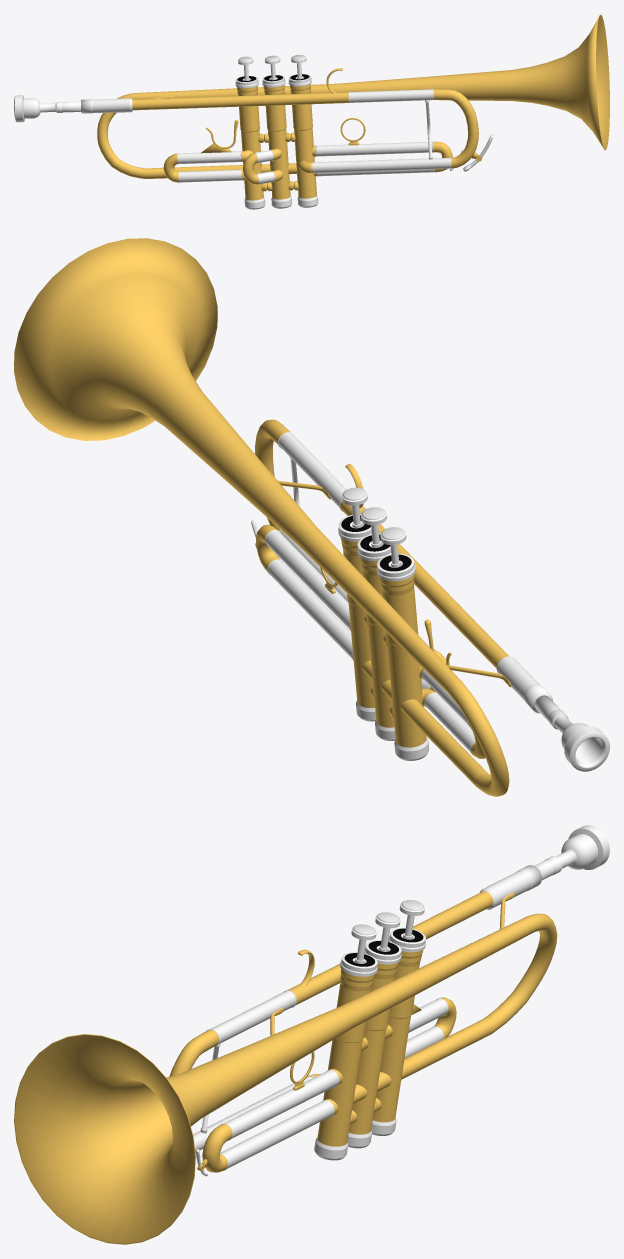
Rendered from trumpet.glb.
The picture shows the model from 3 angles, top to bottom: view 1: azimuth 30°, elevation 25°; view 2: azimuth 150°, elevation 25°; view 3: azimuth 270°, elevation 25°; orthographic projection. The views are drawn at different scales.
Parts seen in each view (by area): view 1: Cylinder, Cylinder.001, Cylinder.006, Cylinder.005, Cylinder.014, Cylinder.003, Cylinder.034, Cylinder.002, Cylinder.013, Torus, Cylinder.007, Cylinder.015; view 2: Cylinder, Cylinder.001, Cylinder.006, Cylinder.005, Cylinder.014, Cylinder.034, Cylinder.037, Cylinder.004, Cylinder.033, Cylinder.002; view 3: Cylinder, Cylinder.001, Cylinder.006, Cylinder.014, Cylinder.005, Cylinder.002, Cylinder.034, Cylinder.004, Cylinder.013, Cylinder.033, Cylinder.015.
Part boxes in pixels (x1=…): Cylinder: x1=97, y1=14, x2=609, y2=178; Cylinder.001: x1=237, y1=87, x2=316, y2=200; Cylinder.006: x1=312, y1=141, x2=452, y2=176; Cylinder.005: x1=163, y1=150, x2=255, y2=182; Cylinder.014: x1=239, y1=104, x2=312, y2=131; Cylinder.003: x1=243, y1=148, x2=283, y2=184; Cylinder.034: x1=81, y1=98, x2=130, y2=113; Cylinder.002: x1=14, y1=95, x2=56, y2=122; Cylinder.013: x1=244, y1=198, x2=318, y2=208; Torus: x1=201, y1=120, x2=238, y2=153; Cylinder.007: x1=258, y1=132, x2=298, y2=191; Cylinder.015: x1=235, y1=75, x2=285, y2=87; Cylinder: x1=14, y1=238, x2=509, y2=796; Cylinder.001: x1=342, y1=542, x2=426, y2=747; Cylinder.006: x1=256, y1=524, x2=353, y2=659; Cylinder.005: x1=419, y1=666, x2=485, y2=758; Cylinder.014: x1=343, y1=550, x2=418, y2=645; Cylinder.034: x1=496, y1=656, x2=552, y2=713; Cylinder.037: x1=570, y1=731, x2=609, y2=771; Cylinder.004: x1=341, y1=516, x2=411, y2=571; Cylinder.033: x1=342, y1=487, x2=405, y2=541; Cylinder.002: x1=554, y1=715, x2=604, y2=766; Cylinder: x1=14, y1=891, x2=557, y2=1244; Cylinder.001: x1=317, y1=954, x2=421, y2=1146; Cylinder.006: x1=202, y1=1068, x2=342, y2=1172; Cylinder.014: x1=336, y1=963, x2=419, y2=1042; Cylinder.005: x1=404, y1=997, x2=456, y2=1058; Cylinder.002: x1=556, y1=825, x2=609, y2=869; Cylinder.034: x1=485, y1=865, x2=541, y2=908; Cylinder.004: x1=344, y1=929, x2=423, y2=966; Cylinder.013: x1=314, y1=1122, x2=396, y2=1158; Cylinder.033: x1=352, y1=900, x2=424, y2=936; Cylinder.015: x1=364, y1=928, x2=425, y2=964.
Size of the model in its own units: 8.35 by 3.1 by 5.61.
